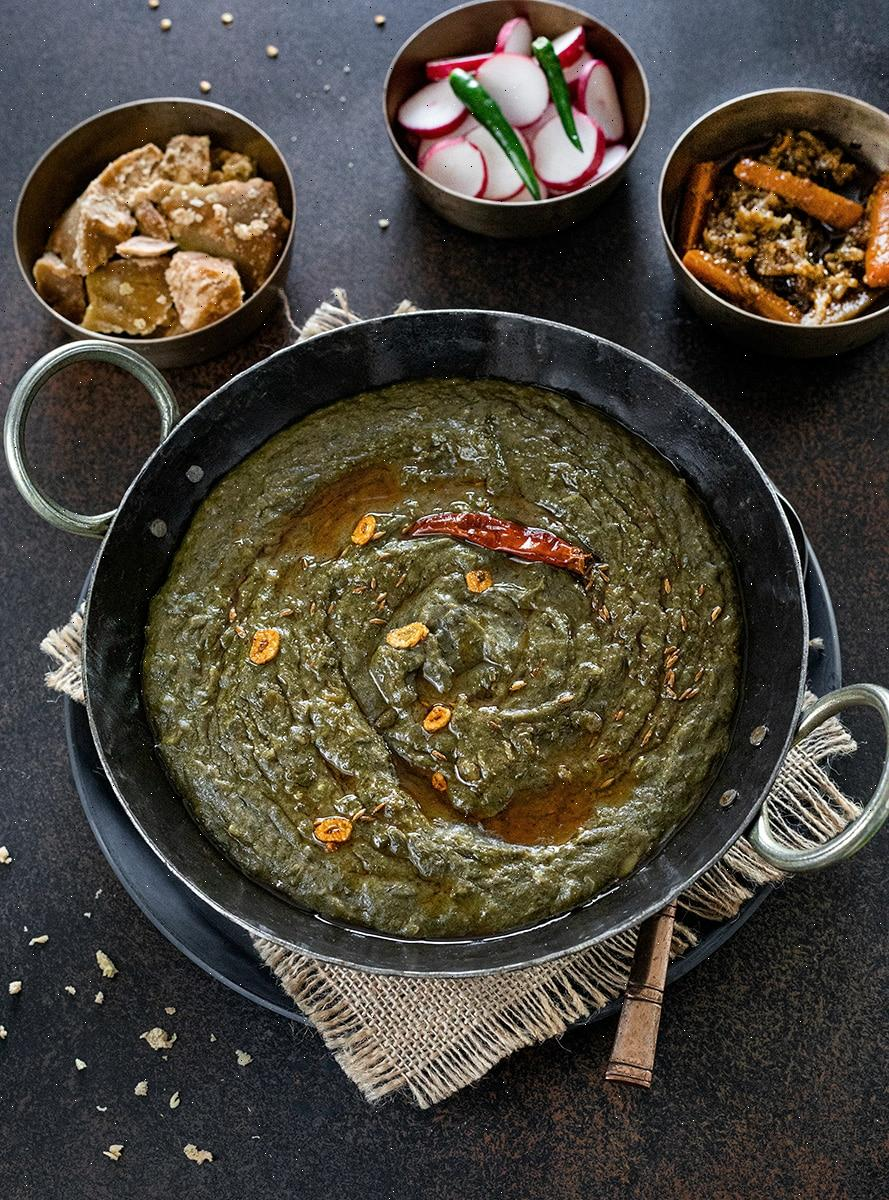saag: (155, 378, 737, 946)
